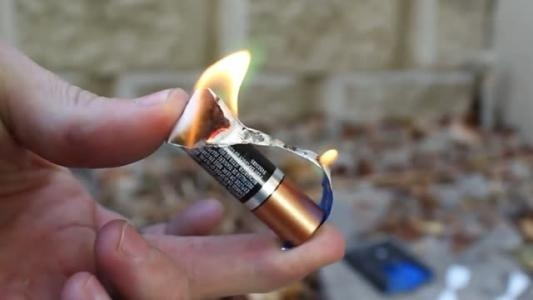fire: (169, 48, 251, 142), (315, 143, 341, 172)
